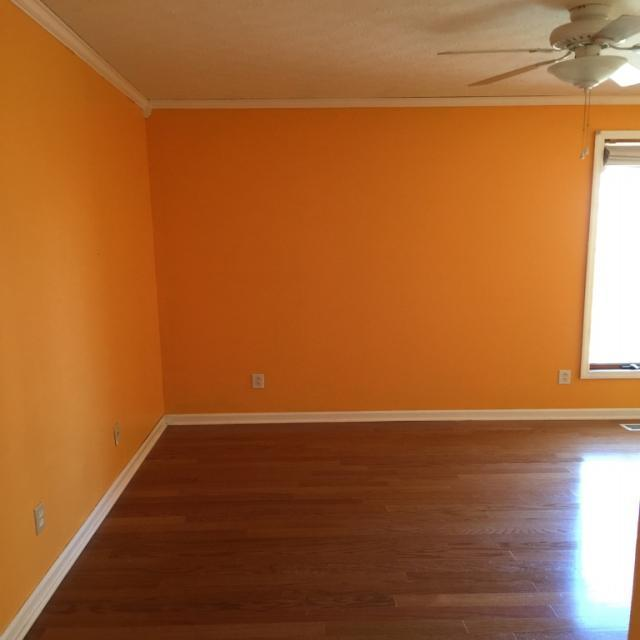fan_off: (434, 0, 640, 95)
